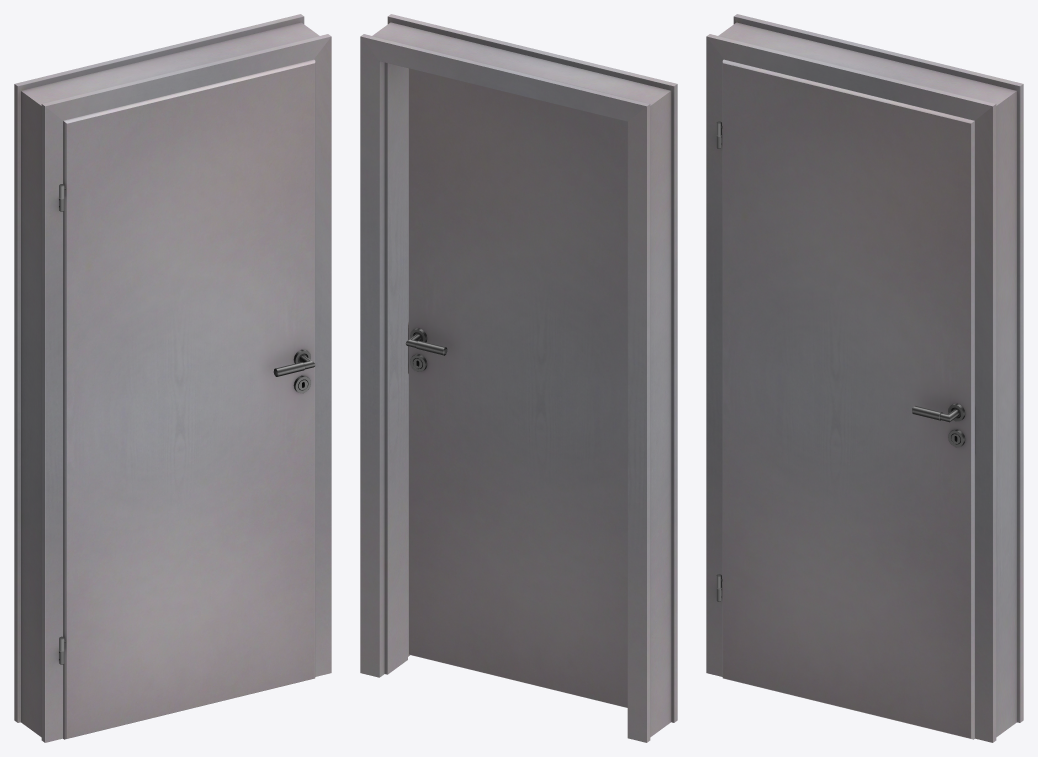
Rendered from door_with_frame.glb.
3 renders of one model, left to right at view 1: azimuth 30°, elevation 25°; view 2: azimuth 150°, elevation 25°; view 3: azimuth 330°, elevation 25°, orthographic.
Parts seen in each view (by area): view 1: Plane.001, Plane.002; view 2: Plane.001, Plane.002; view 3: Plane.001, Plane.002.
Part boxes in pixels (left/top/right/bottom): Plane.001: left=59, top=59, right=315, bottom=739; Plane.002: left=14, top=14, right=331, bottom=742; Plane.001: left=408, top=68, right=627, bottom=707; Plane.002: left=360, top=14, right=677, bottom=742; Plane.001: left=716, top=59, right=974, bottom=739; Plane.002: left=706, top=14, right=1023, bottom=742.
Size of the model in its own units: 97 by 206 by 26.06.
2 materials, 2 textured.
